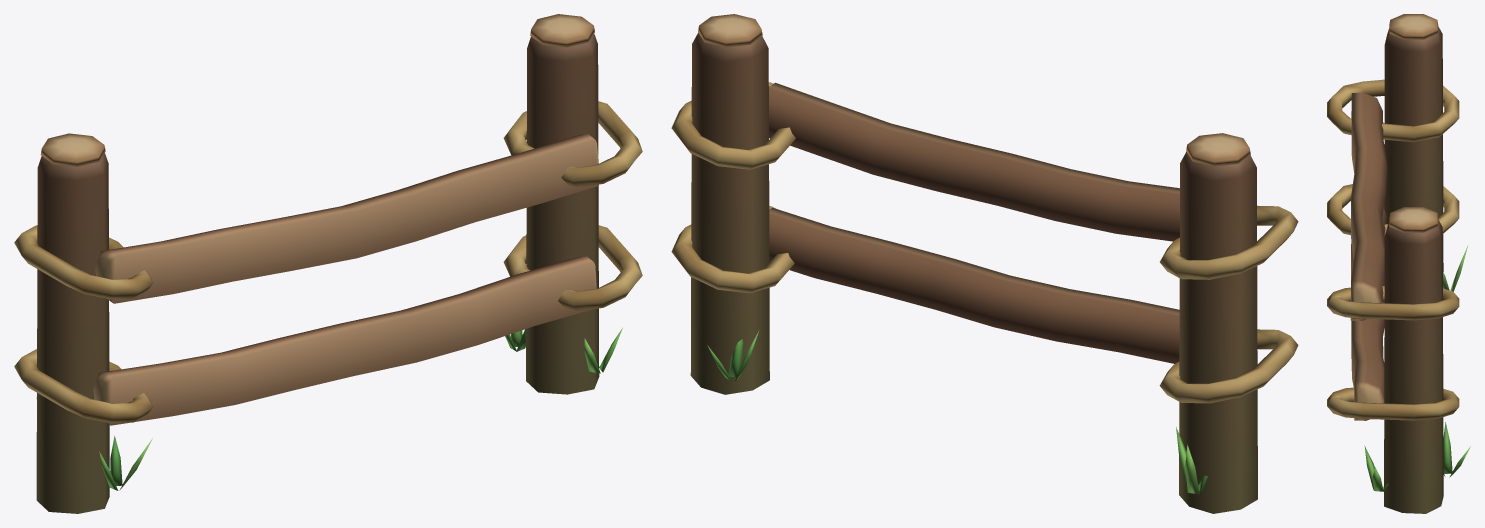
Rendered from fence-1-v2.glb.
3 views of the same model, side by side, from view 1: azimuth 30°, elevation 25°; view 2: azimuth 150°, elevation 25°; view 3: azimuth 270°, elevation 25° (orthographic). The views are drawn at different scales.
Parts seen in each view (by area): view 1: fence; view 2: fence; view 3: fence.
Part boxes in pixels (bbox=[...]): fence: bbox=[14, 14, 642, 513]; fence: bbox=[671, 14, 1298, 513]; fence: bbox=[1327, 14, 1470, 513].
Size of the model in its own units: 1.21 by 0.69 by 0.3153.
